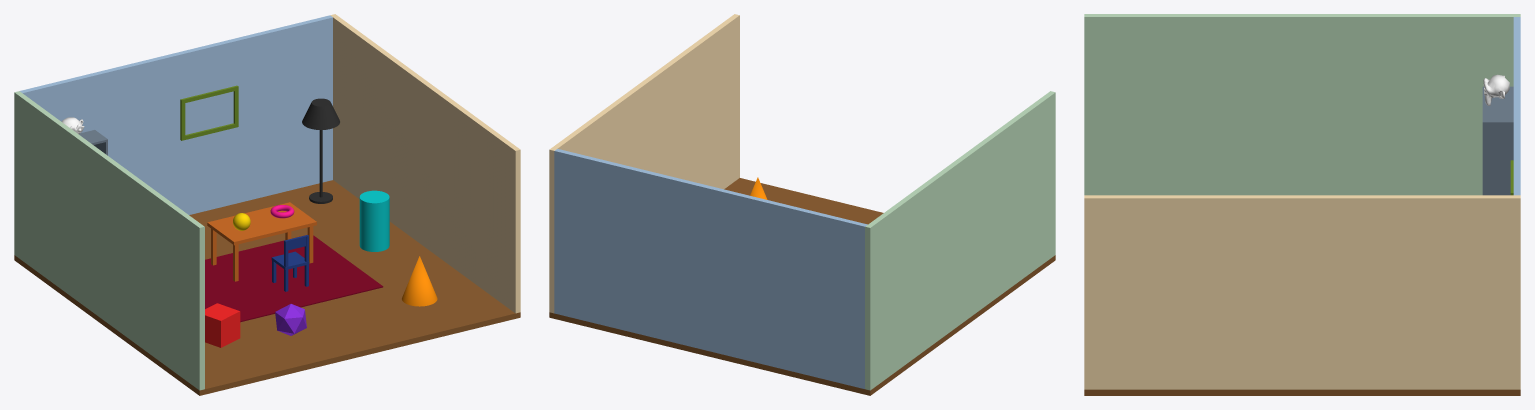
File: test_room.glb
3 renders of one model, left to right at view 1: azimuth 30°, elevation 25°; view 2: azimuth 150°, elevation 25°; view 3: azimuth 270°, elevation 25°, orthographic. The views are drawn at different scales.
Parts seen in each view (by area): view 1: Wall_Back, Wall_Left, Wall_Right, Floor, Rug, Table, Cylinder, Lamp, Cube, Chair, Cone, Picture_Frame (+1 smaller); view 2: Wall_Back, Wall_Left, Wall_Right, Floor; view 3: Wall_Right, Wall_Left, Bookshelf, Floor, Wall_Back, Suzanne.
Part boxes in pixels (<box>): Wall_Back: <box>20,15,332,214</box>; Wall_Left: <box>14,91,204,390</box>; Wall_Right: <box>330,14,520,313</box>; Floor: <box>14,180,520,395</box>; Rug: <box>205,235,383,322</box>; Table: <box>207,202,316,281</box>; Cylinder: <box>359,190,389,251</box>; Lamp: <box>302,98,339,203</box>; Cube: <box>205,303,240,347</box>; Chair: <box>271,235,309,291</box>; Cone: <box>402,256,437,306</box>; Picture_Frame: <box>180,85,238,140</box>; Wall_Back: <box>554,149,867,388</box>; Wall_Left: <box>865,91,1055,390</box>; Wall_Right: <box>549,14,739,313</box>; Floor: <box>549,178,1055,395</box>; Wall_Right: <box>1084,195,1520,389</box>; Wall_Left: <box>1084,14,1520,195</box>; Bookshelf: <box>1482,86,1513,195</box>; Floor: <box>1084,389,1520,395</box>; Wall_Back: <box>1513,17,1520,195</box>; Suzanne: <box>1483,74,1509,105</box>.
Bounding box in the file's own units: 6.2 × 3.1 × 6.2.
